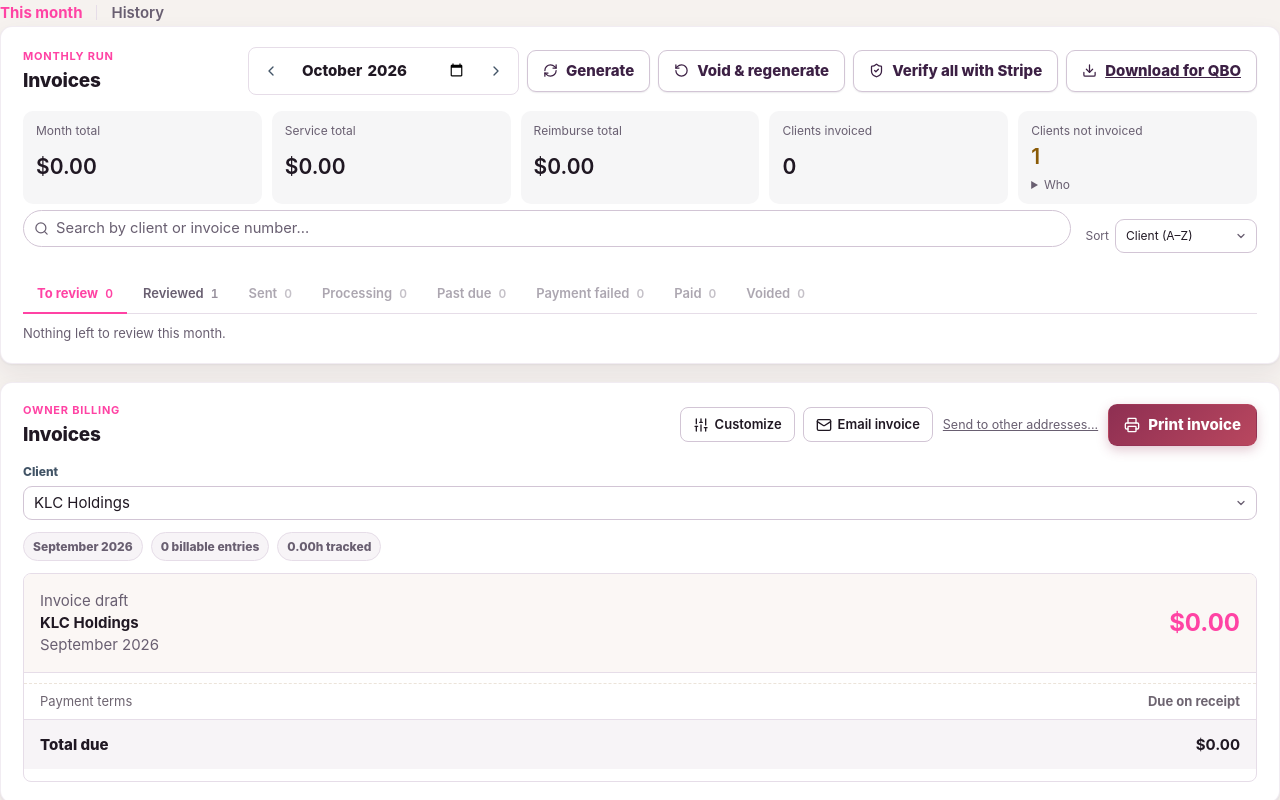
a billing master's invoice, from the lower button › shows the addressed company's addresses in the picker, not the master's empty list
The image size is (1280, 800).
What coordinates should you click on to do the following:
click the button "Send to other addresses..."
I would click on:
 (1020, 425)
Its box is 941,412 -> 1100,438.
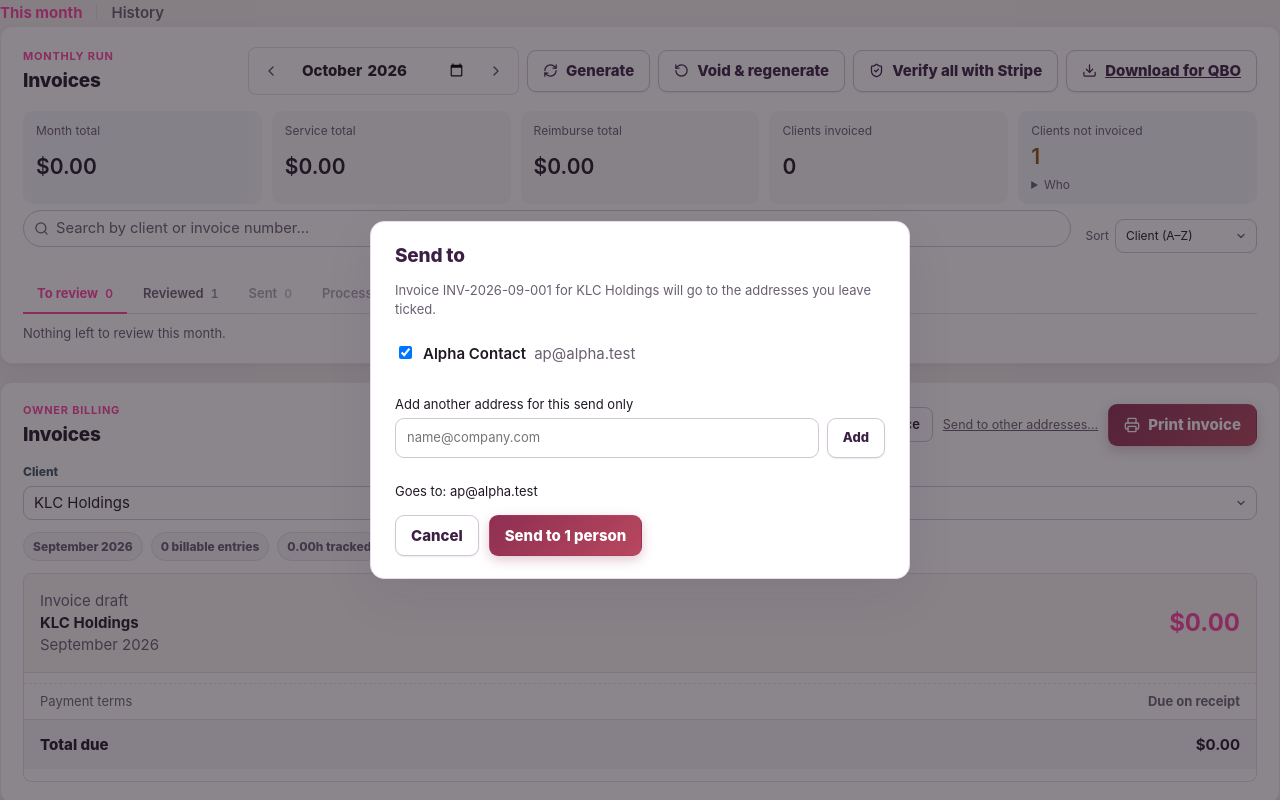
Now the checkbox labelled "Alpha Contact ap@alpha.test" is checked, box 399,346 -> 412,359
Now the number of checkboxes is 1, box 399,346 -> 412,359
